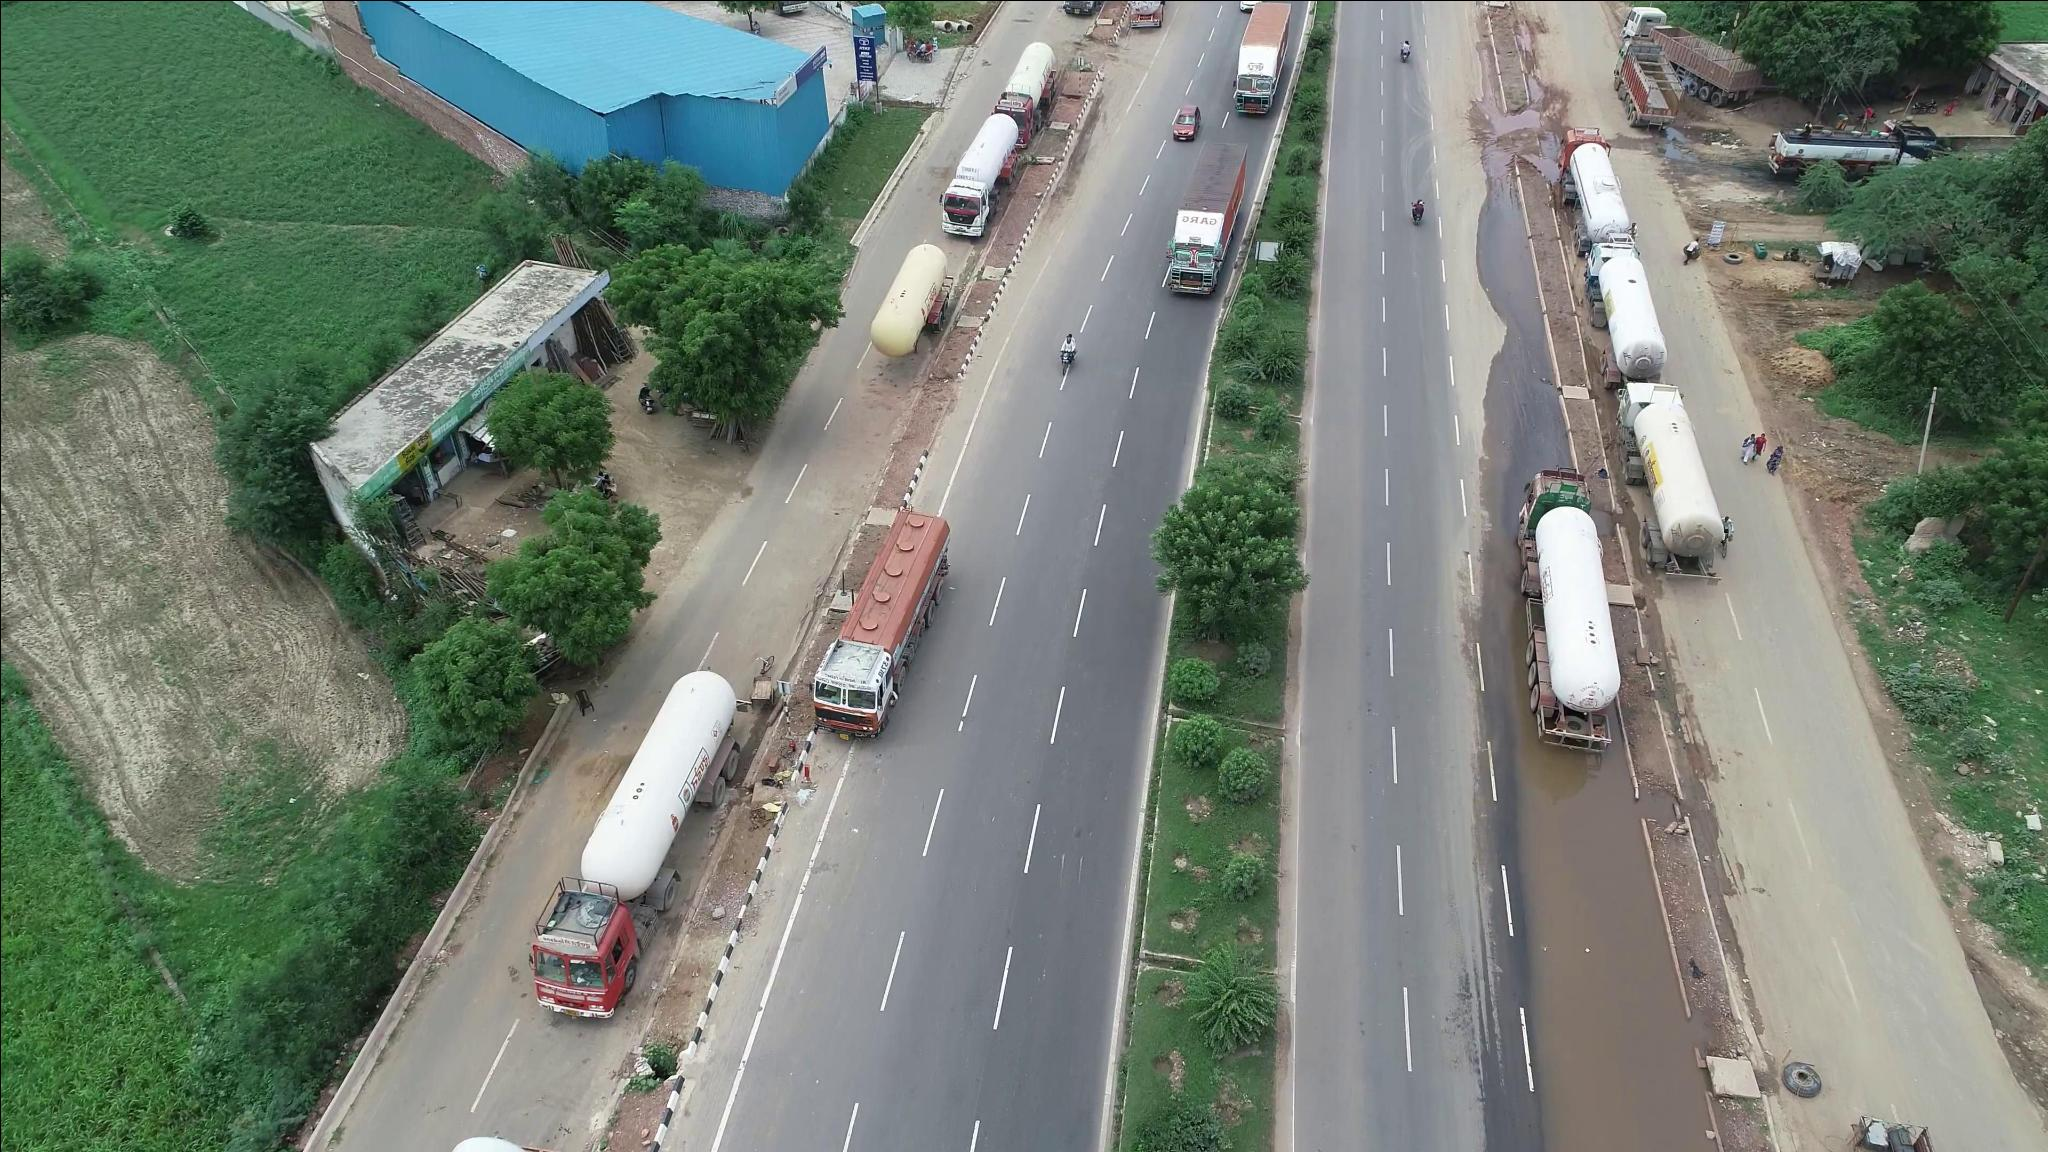Waterlogging: (1519, 913, 1694, 1142)
